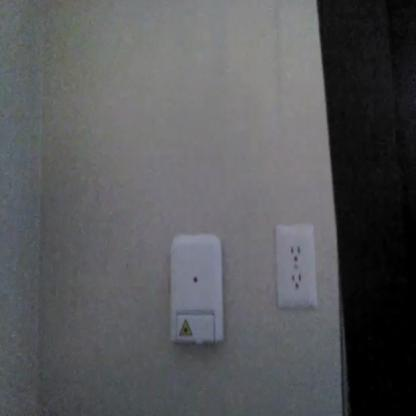OUTLET: (274, 224, 317, 308)
